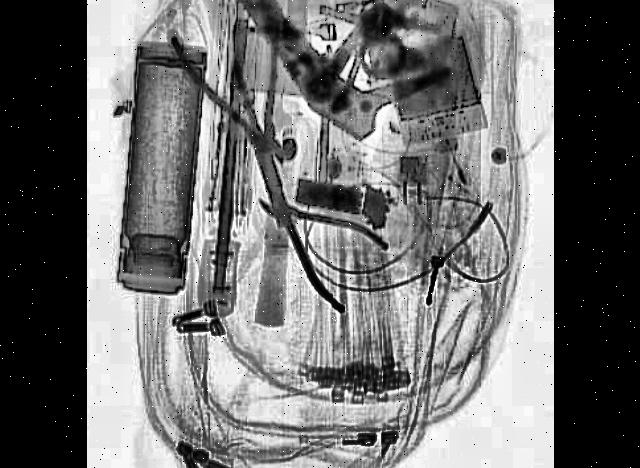Pliers: (169, 0, 324, 210), (248, 153, 390, 331)
